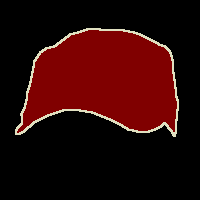hat: (16, 29, 178, 136)
